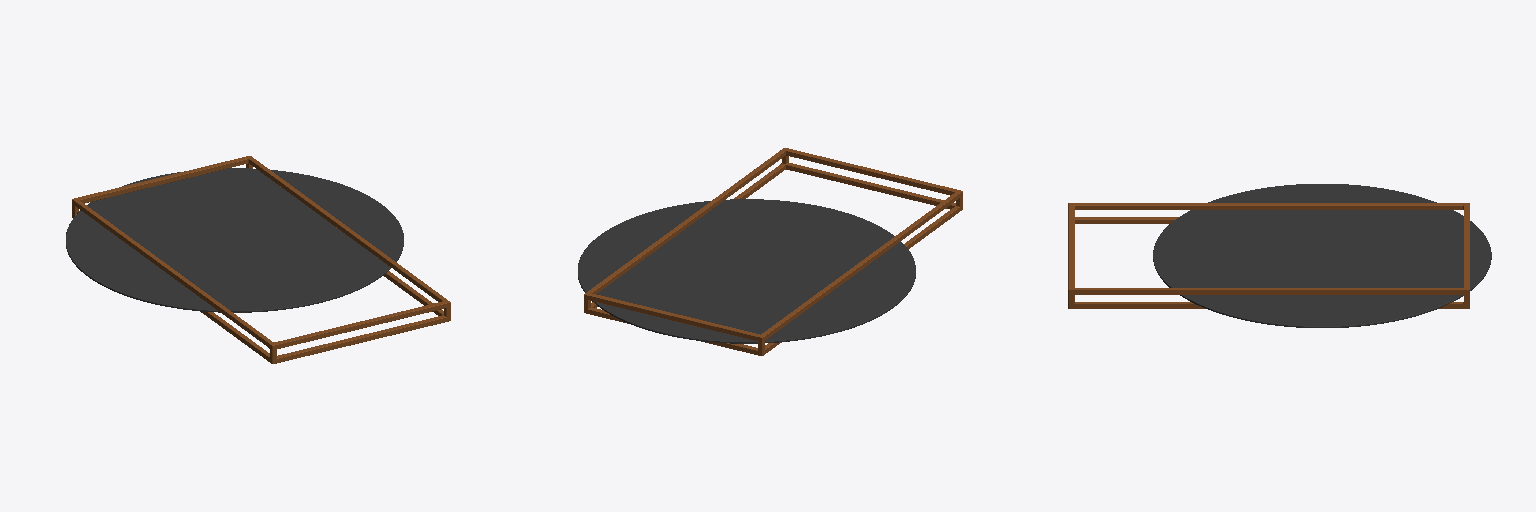
The model's file is CB2_Pendulum_Wall_Mirror.obj.
3 renders of one model, left to right at view 1: azimuth 30°, elevation 25°; view 2: azimuth 150°, elevation 25°; view 3: azimuth 270°, elevation 25°, orthographic.
Parts seen in each view (by area): view 1: CB2_Pendulum_Wall_Mirror; view 2: CB2_Pendulum_Wall_Mirror; view 3: CB2_Pendulum_Wall_Mirror.
Boxes of the visible parts, x1=… form: CB2_Pendulum_Wall_Mirror: x1=66, y1=156, x2=450, y2=363; CB2_Pendulum_Wall_Mirror: x1=578, y1=148, x2=962, y2=355; CB2_Pendulum_Wall_Mirror: x1=1068, y1=184, x2=1491, y2=327.
Size of the model in its own units: 81.3 by 5 by 102.